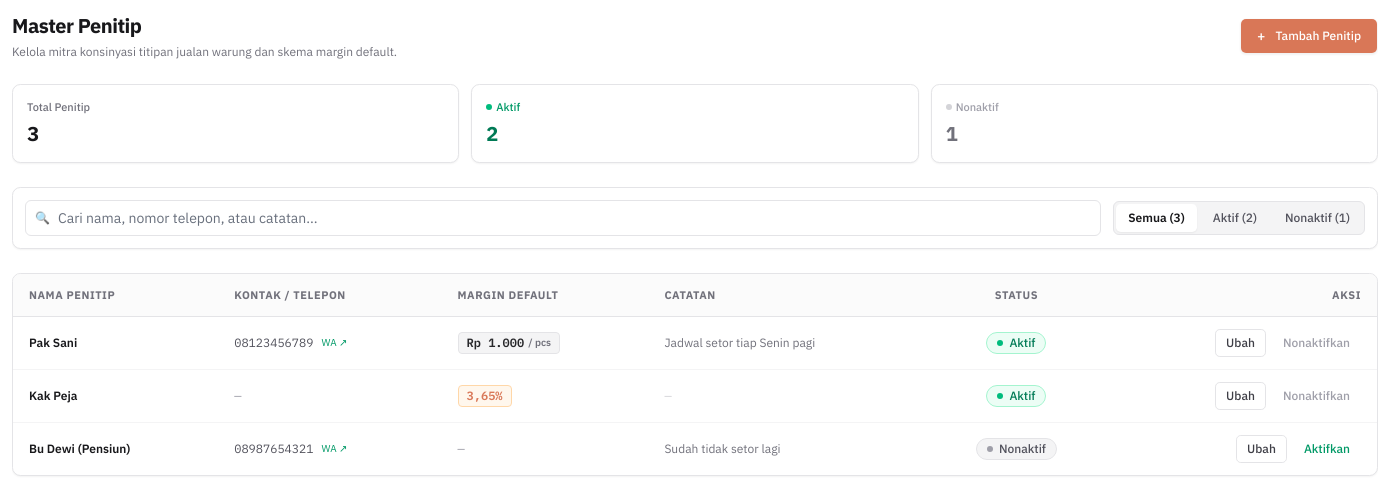
Test: PenitipPage Full Component › filters by search input
Type "Peja" into the search field with placeholder "Cari nama, nomor telepon, atau catatan..." at (563, 218), box [25,200,1101,236]
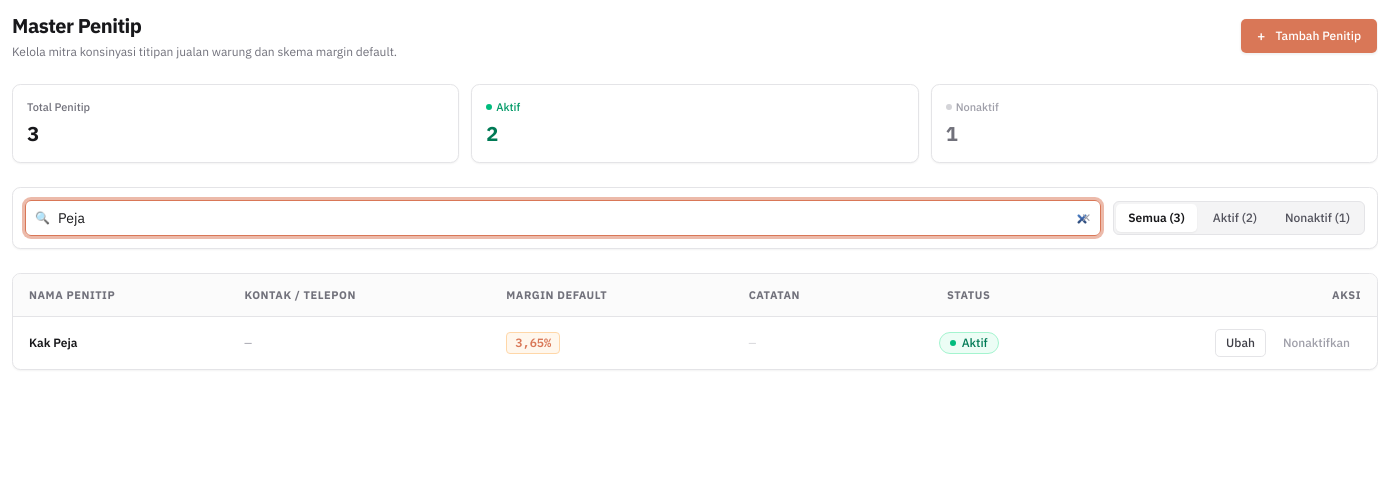
Expected: the text "Kak Peja" is shown, [13,317,228,369]
Result: the text "Pak Sani" is not shown
